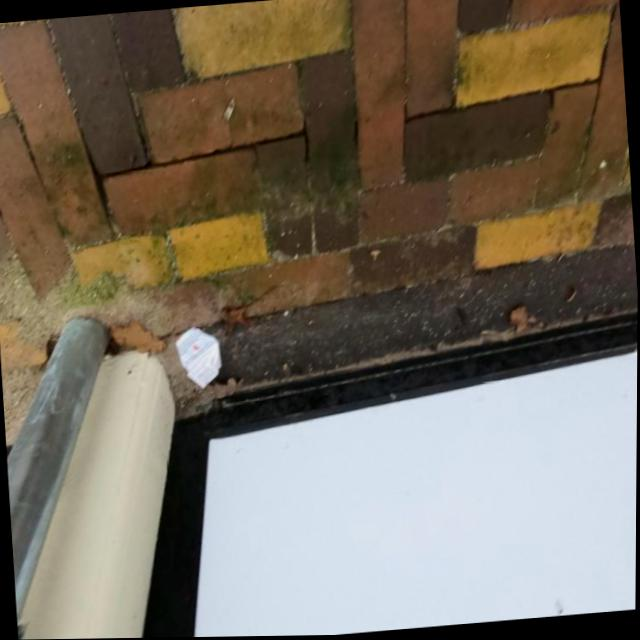Paper: (175, 330, 223, 385)
